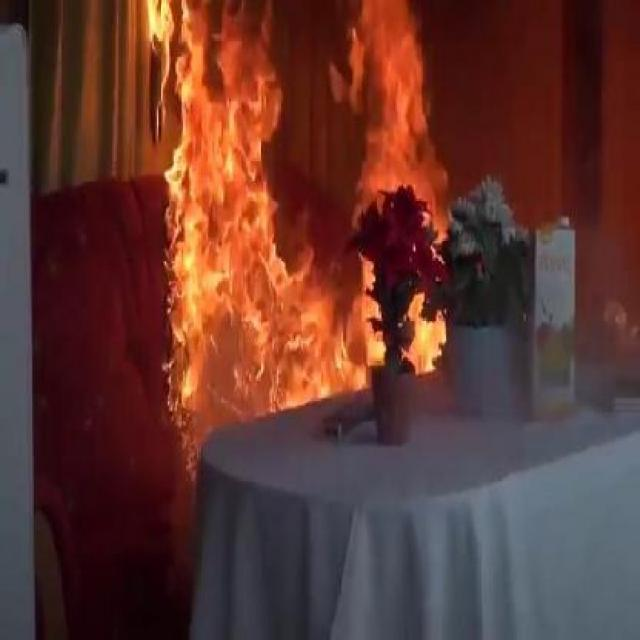fire: (138, 5, 487, 473)
